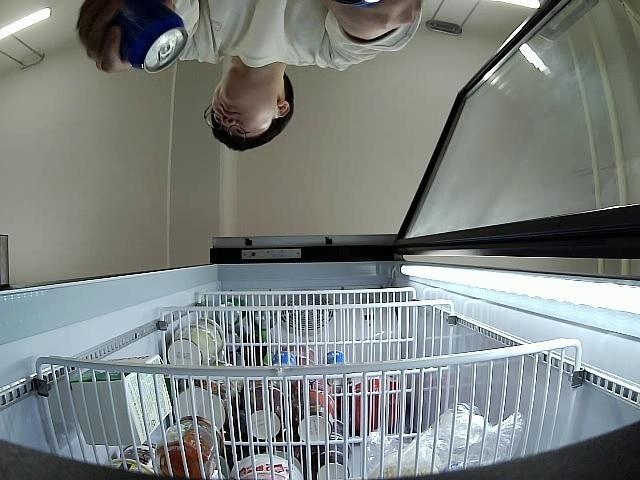13_pocariSweat: (112, 0, 190, 71)
